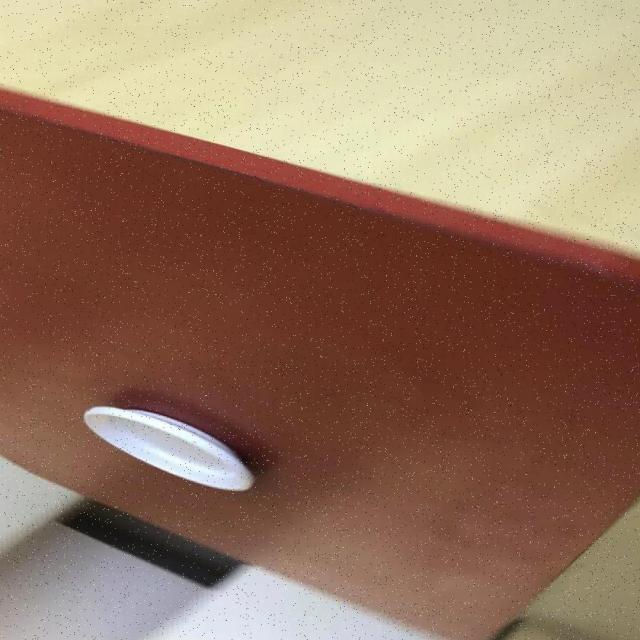Plate: (0, 80, 640, 640), (82, 405, 256, 492)
